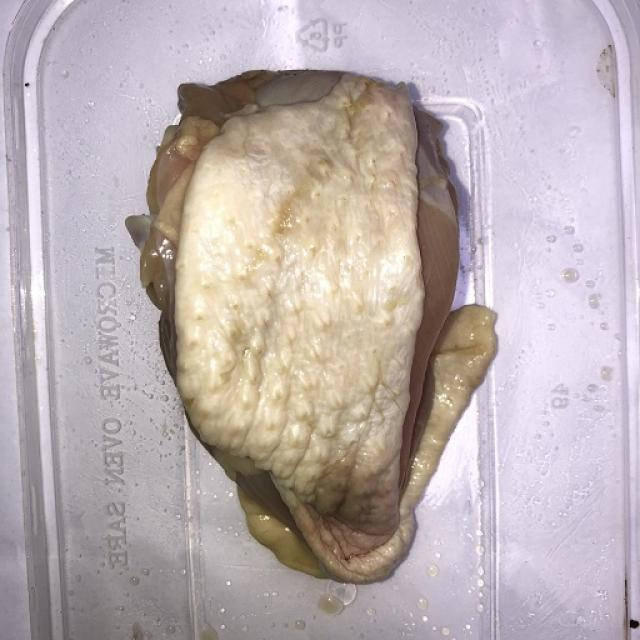chicken: (127, 68, 498, 584)
